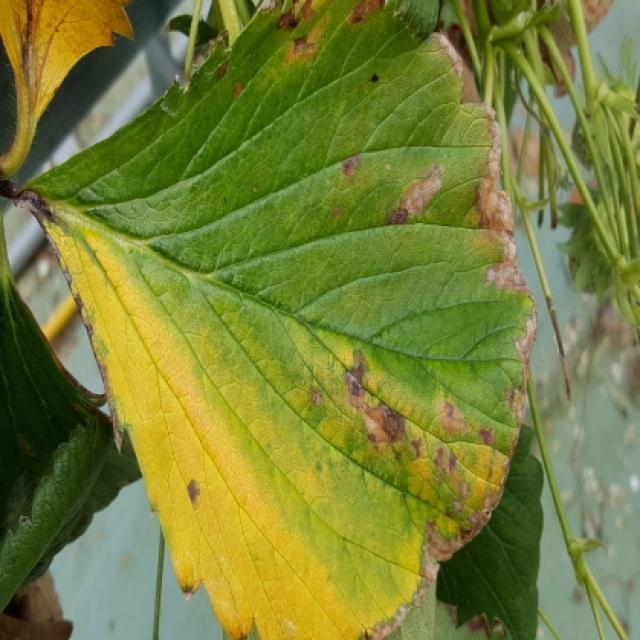Angular Leafspot: (19, 0, 538, 638)
